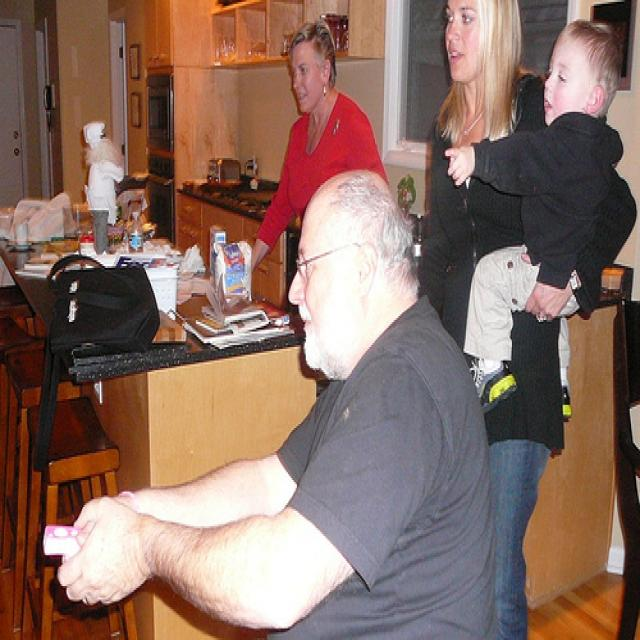chair: (22, 395, 139, 640), (3, 349, 82, 631), (613, 299, 640, 632)
